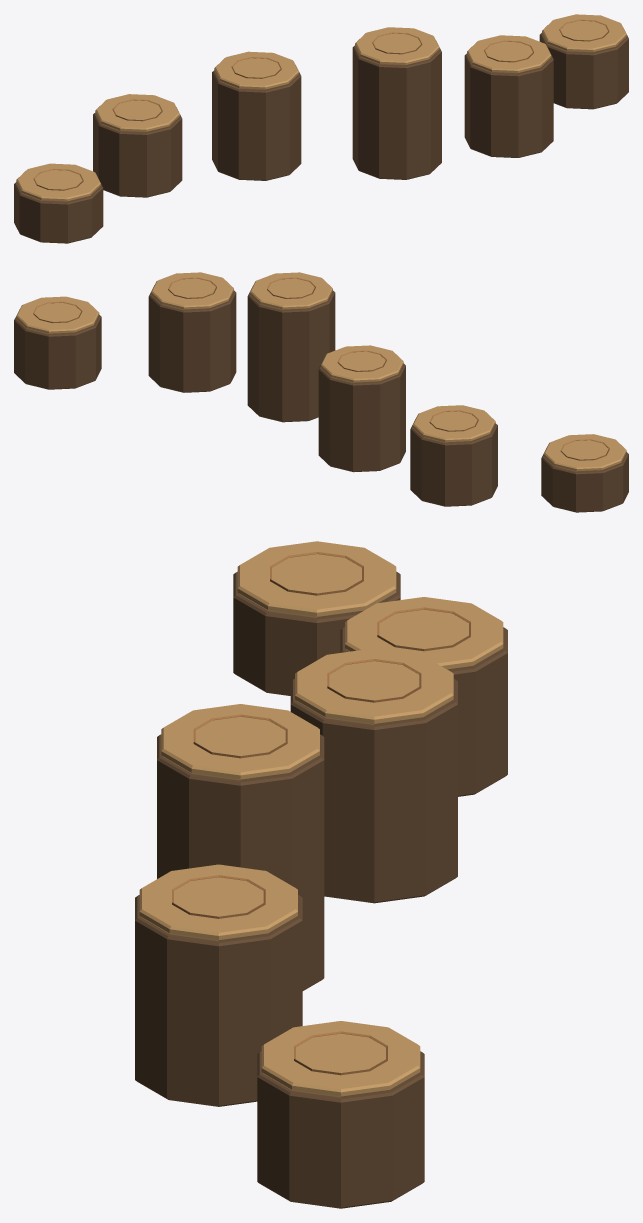
File: b09_stepping_log_course.glb
3 renders of one model, top to bottom at view 1: azimuth 30°, elevation 25°; view 2: azimuth 150°, elevation 25°; view 3: azimuth 270°, elevation 25°, orthographic. The views are drawn at different scales.
Parts seen in each view (by area): view 1: b09_stepping_log_course; view 2: b09_stepping_log_course; view 3: b09_stepping_log_course.
Boxes of the visible parts, x1,y1,x2,y2 form: b09_stepping_log_course: [14, 14, 628, 243]; b09_stepping_log_course: [14, 272, 628, 512]; b09_stepping_log_course: [135, 541, 507, 1208].
Bounding box in the file's own units: 2.98 × 0.5566 × 0.8047.
